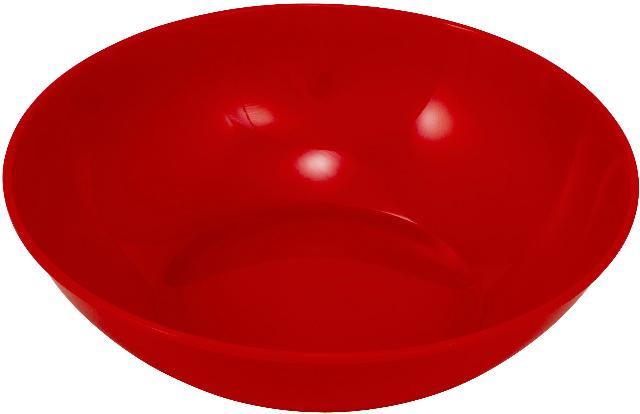Bowl: (4, 5, 638, 411)
